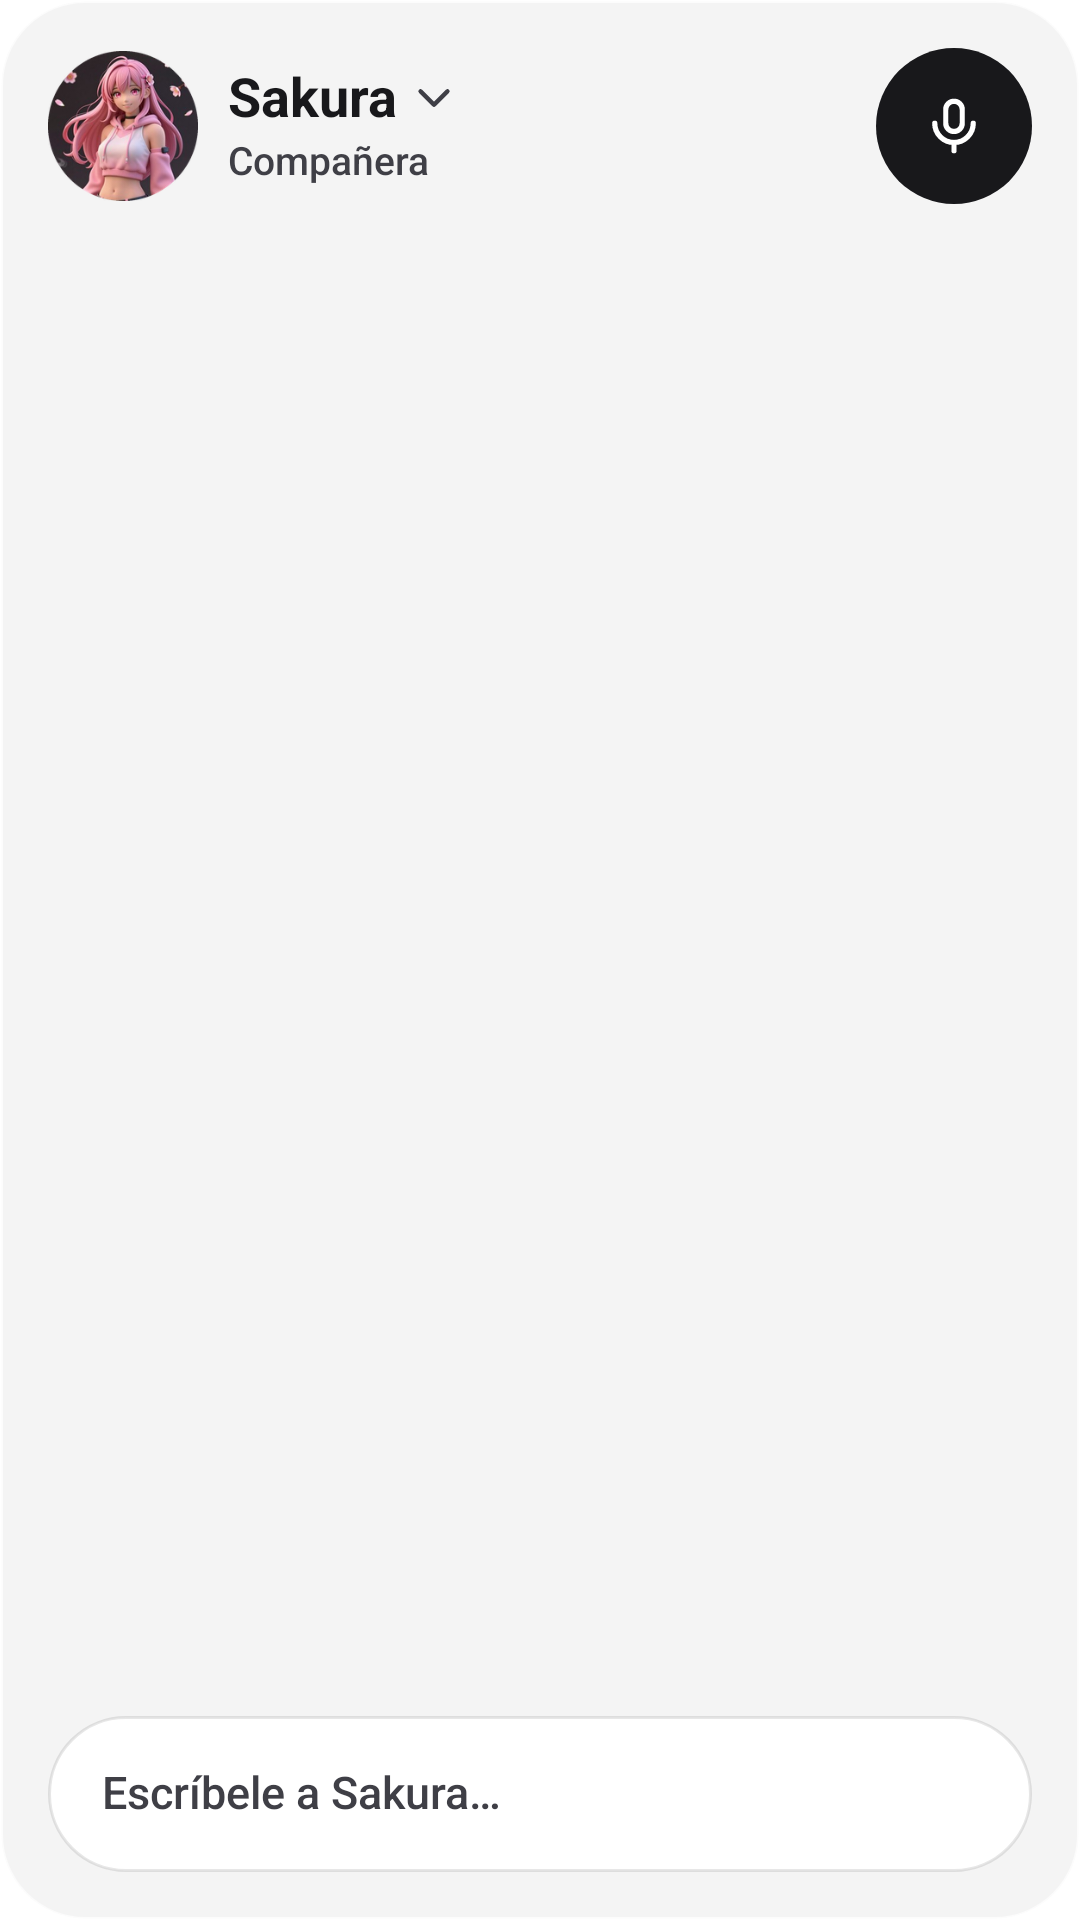

Where to tap for icons on this 1080×1920 app screen, as (x=x, y=y):
Hablar con Sakura: (x=954, y=126)
ui chevron down: (x=434, y=98)
